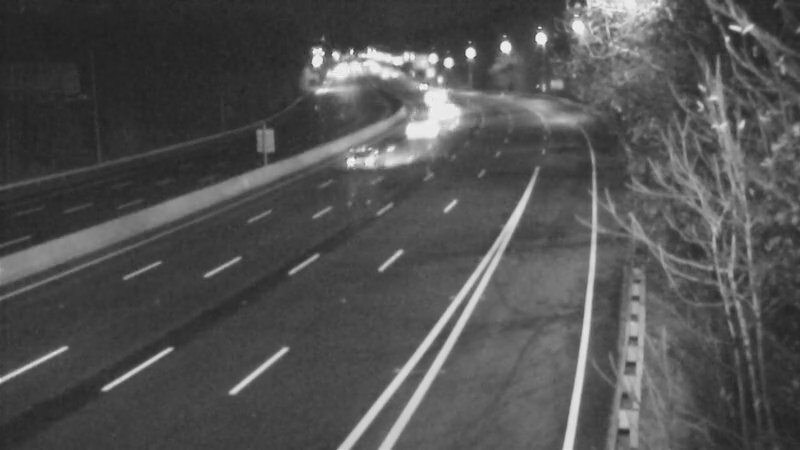vehicle: (331, 115, 411, 195), (410, 70, 460, 120), (419, 84, 469, 134), (394, 104, 444, 154)
